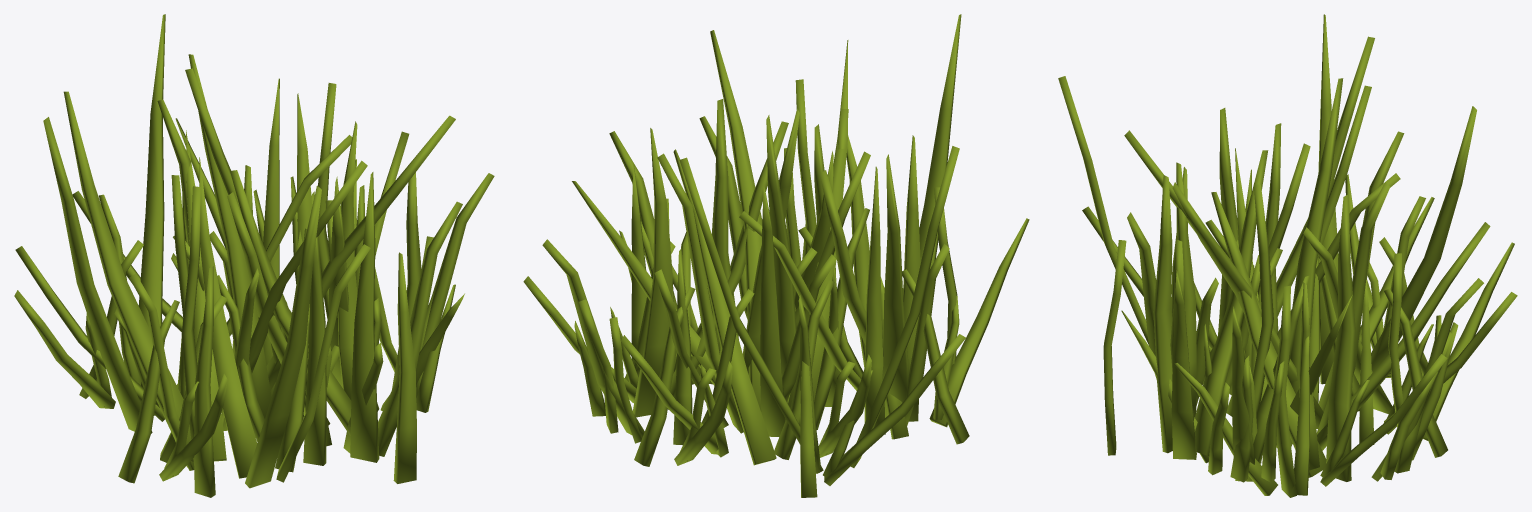
File: lowpoly_5.dae
3 renders of one model, left to right at view 1: azimuth 30°, elevation 25°; view 2: azimuth 150°, elevation 25°; view 3: azimuth 270°, elevation 25°, orthographic. The views are drawn at different scales.
Parts seen in each view (by area): view 1: grass.003; view 2: grass.003; view 3: grass.003.
Boxes of the visible parts, <box> form: grass.003: <box>14,14,494,497</box>; grass.003: <box>523,14,1029,497</box>; grass.003: <box>1058,14,1517,497</box>.
Bounding box in the file's own units: 0.3952 × 0.3942 × 0.3232.
